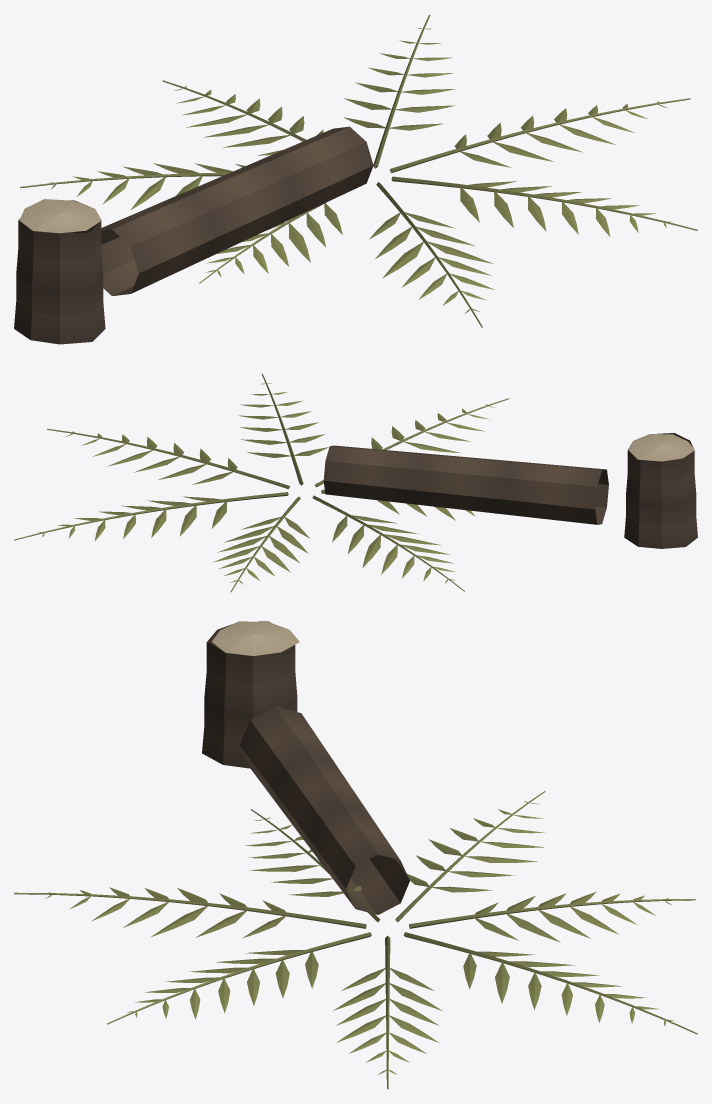
Rendered from tree_fern_stump_a.glb.
The picture shows the model from 3 angles, top to bottom: view 1: azimuth 30°, elevation 25°; view 2: azimuth 150°, elevation 25°; view 3: azimuth 270°, elevation 25°; orthographic projection. The views are drawn at different scales.
Visible parts, largest first — view 1: tree_fern_stump_a; view 2: tree_fern_stump_a; view 3: tree_fern_stump_a.
Part boxes in pixels (x1=…): tree_fern_stump_a: x1=14, y1=14, x2=697, y2=344; tree_fern_stump_a: x1=14, y1=373, x2=697, y2=592; tree_fern_stump_a: x1=14, y1=621, x2=697, y2=1089.
Bounding box in the file's own units: 3.91 × 0.57 × 3.07.
